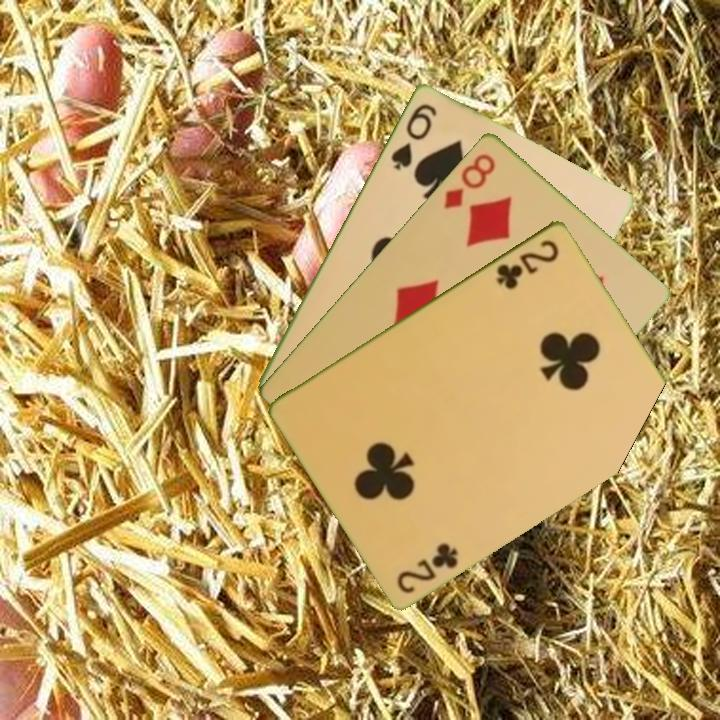2c: (393, 538, 461, 596), (493, 235, 562, 292)
6s: (387, 99, 440, 173)
8d: (440, 149, 499, 212)
